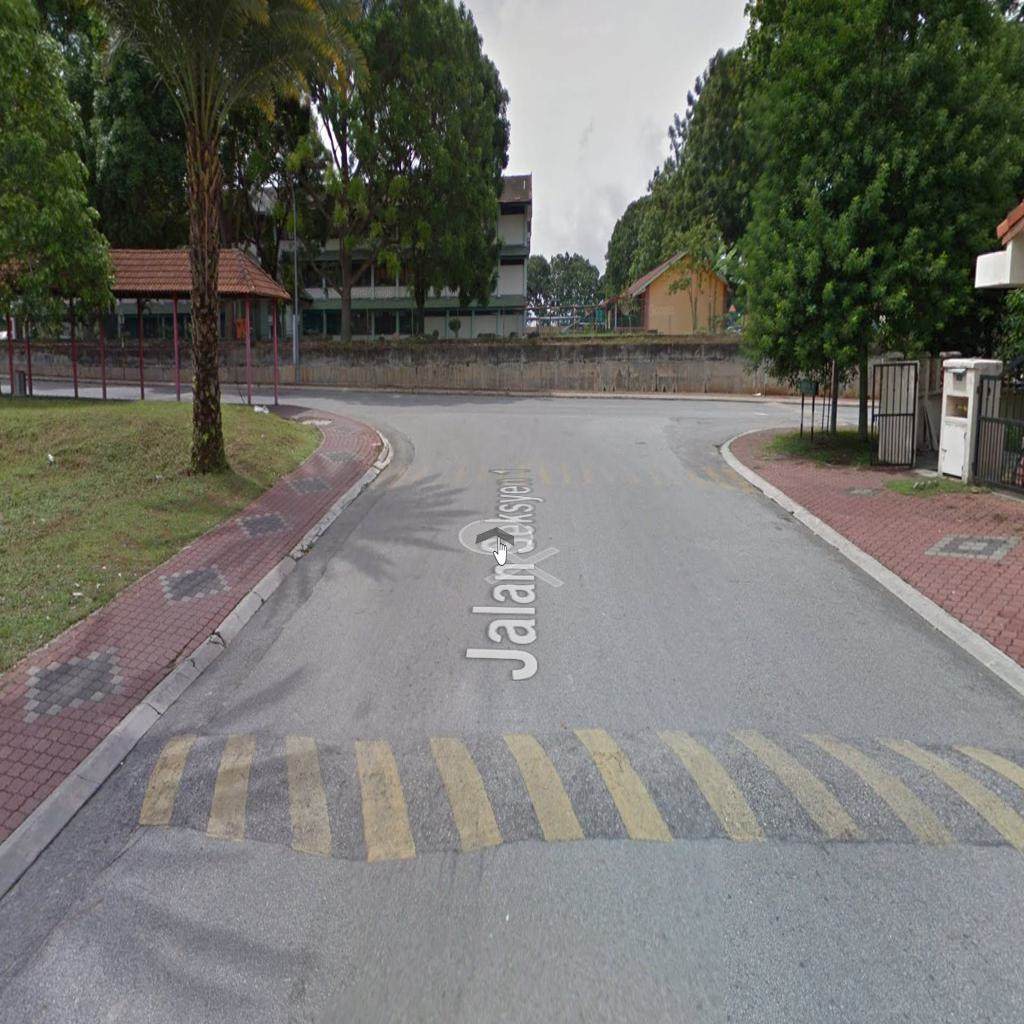Junction: (221, 338, 452, 496), (655, 357, 872, 513)
